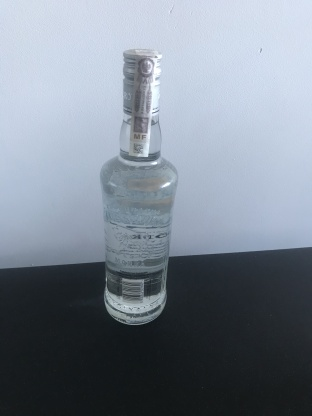nakretka: (119, 42, 164, 117)
